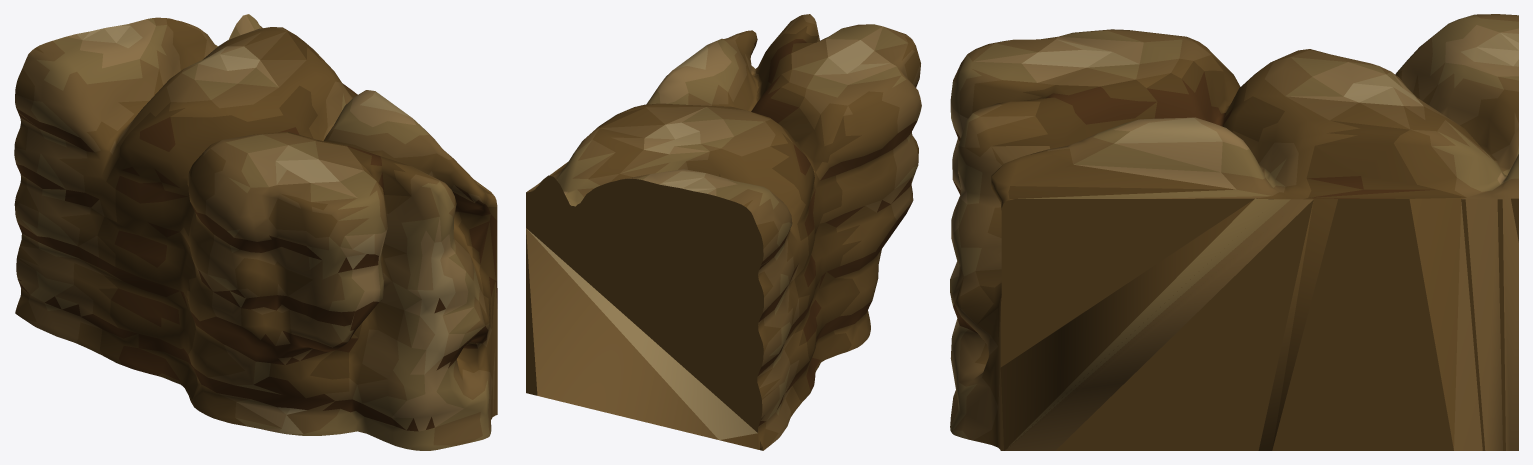
Rendered from ixm_wall_end_l_mid.glb.
3 views of the same model, side by side, from view 1: azimuth 30°, elevation 25°; view 2: azimuth 150°, elevation 25°; view 3: azimuth 270°, elevation 25° (orthographic). The views are drawn at different scales.
Visible parts, largest first — view 1: ixm_wall_end_l_mid; view 2: ixm_wall_end_l_mid; view 3: ixm_wall_end_l_mid.
Part boxes in pixels (box(x1,y1,x2,y2)): ixm_wall_end_l_mid: box(14, 14, 497, 450); ixm_wall_end_l_mid: box(526, 14, 921, 450); ixm_wall_end_l_mid: box(950, 14, 1518, 450).
Bounding box in the file's own units: 11.01 × 10.79 × 18.13.
